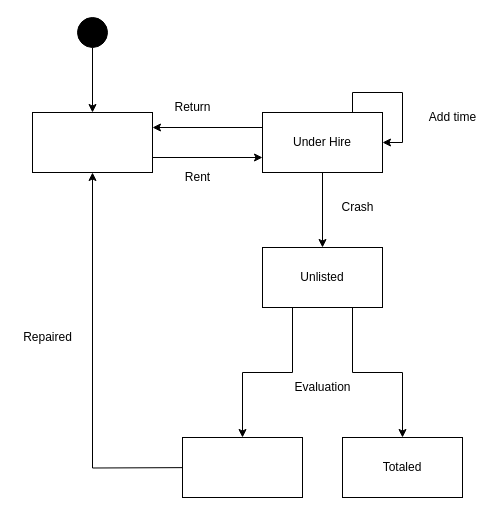
Image size: 499x515. Some labels were removed from this diagram. Each missing label, with the box of its shape:
Not Under Hire: (32, 112, 152, 172)
Slight Damage: (182, 436, 302, 498)
